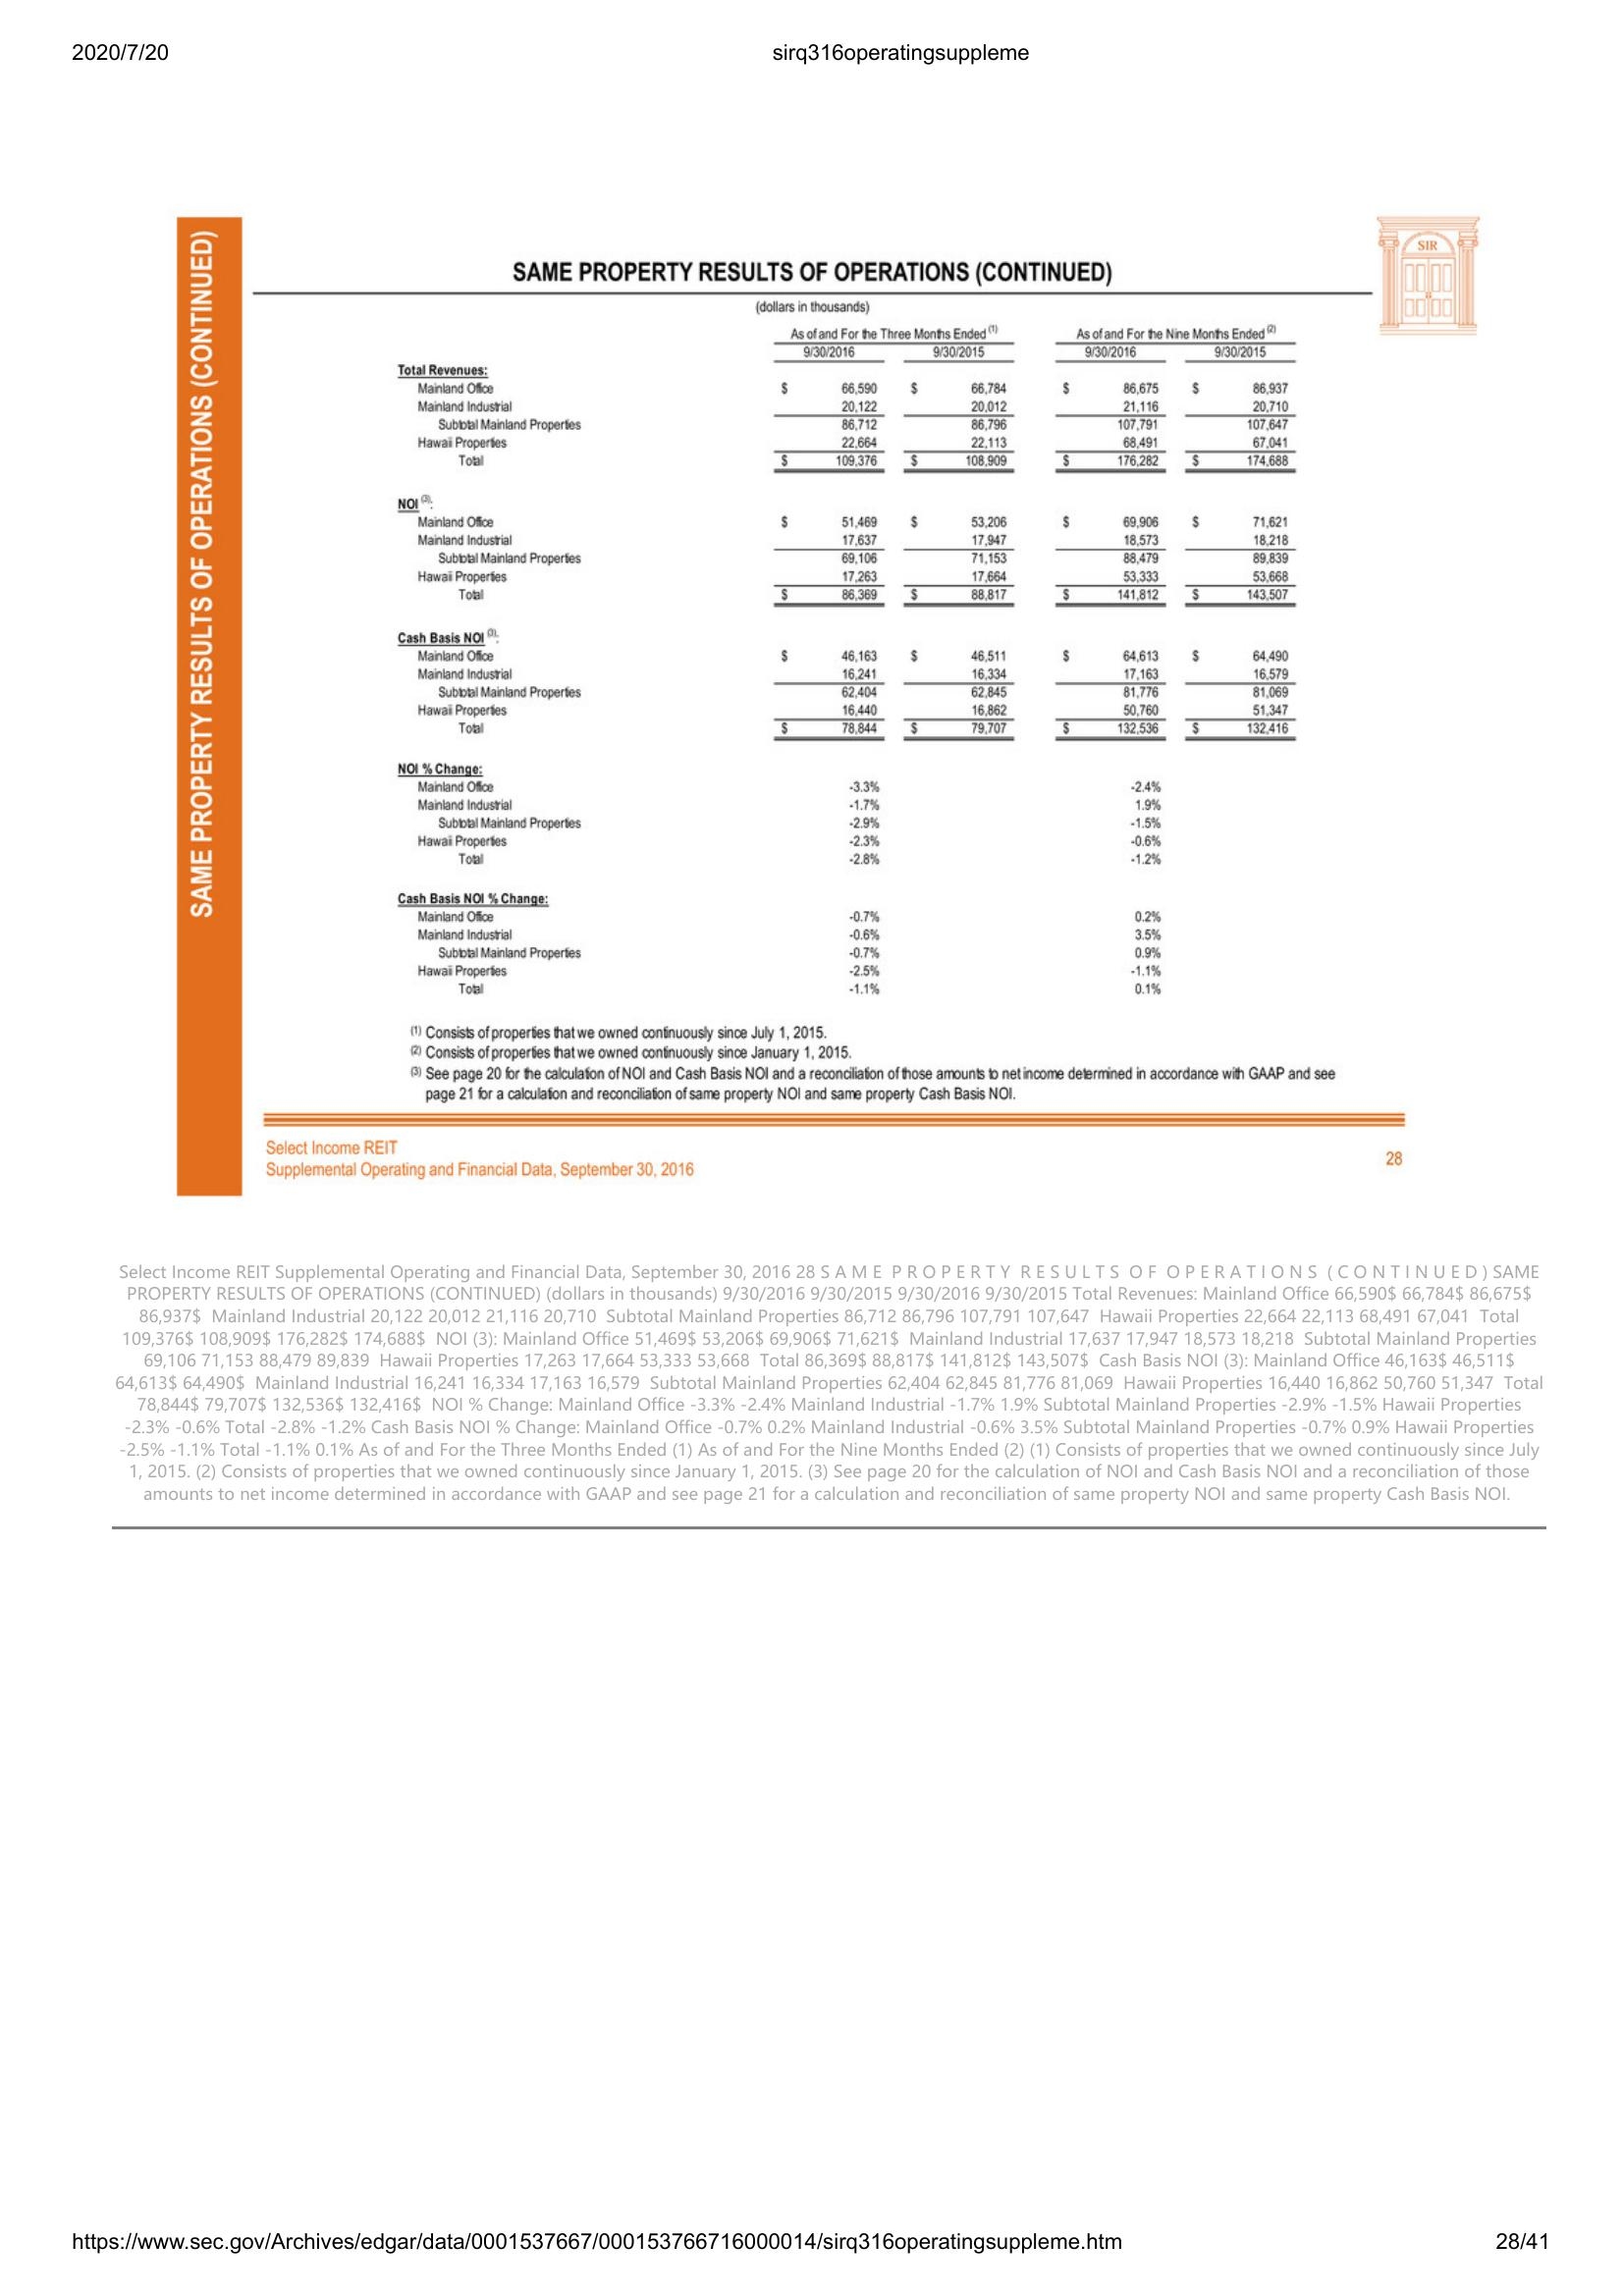table: (388, 318, 1300, 1008)
